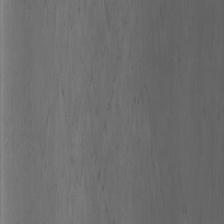silk_spot: (69, 63, 127, 174)
